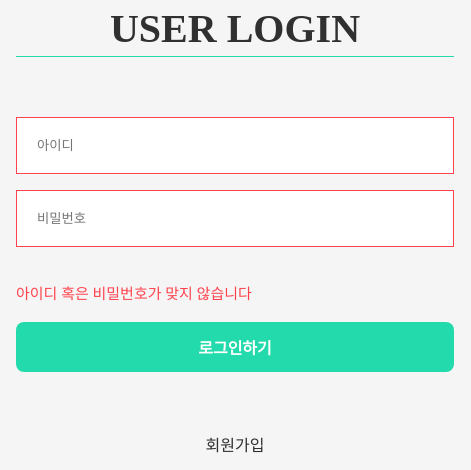
Test: LoginForm › 로그인에 실패했을 때 › 아이디와 비밀번호를 입력하지 않은 경우
What coordinates should you click on to do the following:
click the button "로그인하기"
I would click on:
 (235, 347)
Its box is [16,322,454,372].
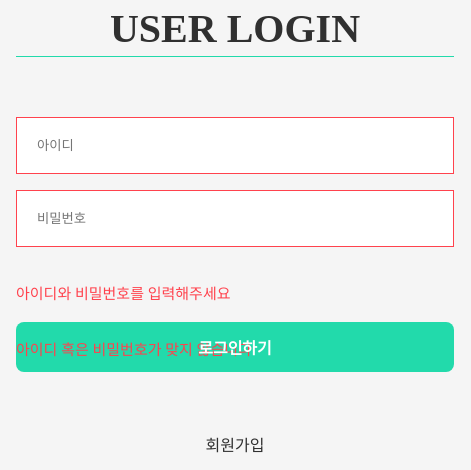
Expected: the text "아이디와 비밀번호를 입력해주세요" is shown, [16,286,230,302]
